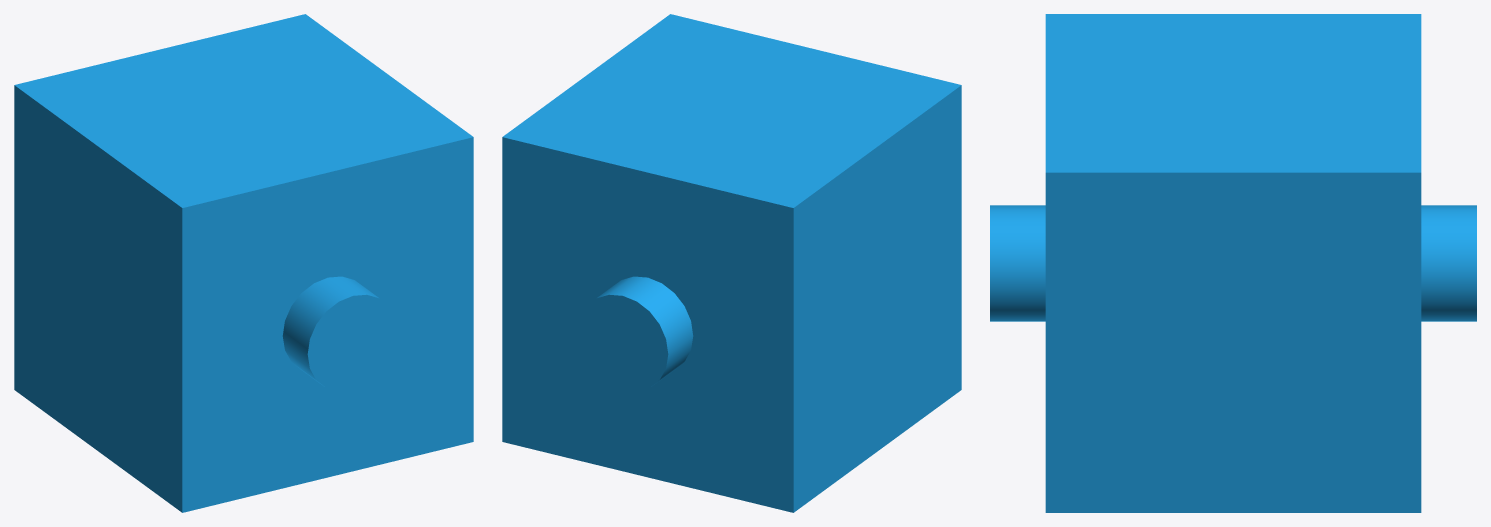
3 views of the same model, side by side, from view 1: azimuth 30°, elevation 25°; view 2: azimuth 150°, elevation 25°; view 3: azimuth 270°, elevation 25° (orthographic). The views are drawn at different scales.
Visible parts, largest first — view 1: char; view 2: char; view 3: char.
Boxes of the visible parts, x1,y1,x2,y2 form: char: [14, 14, 473, 512]; char: [502, 14, 961, 512]; char: [990, 14, 1476, 512].
Size of the model in its own units: 1 by 1 by 1.3.
